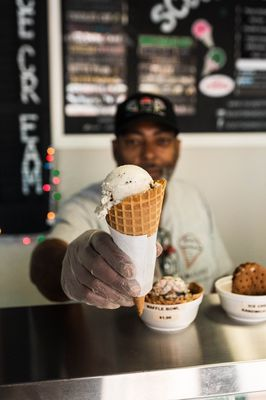pizza: (103, 168, 165, 311)
sushi: (137, 276, 205, 334), (215, 275, 266, 325)
